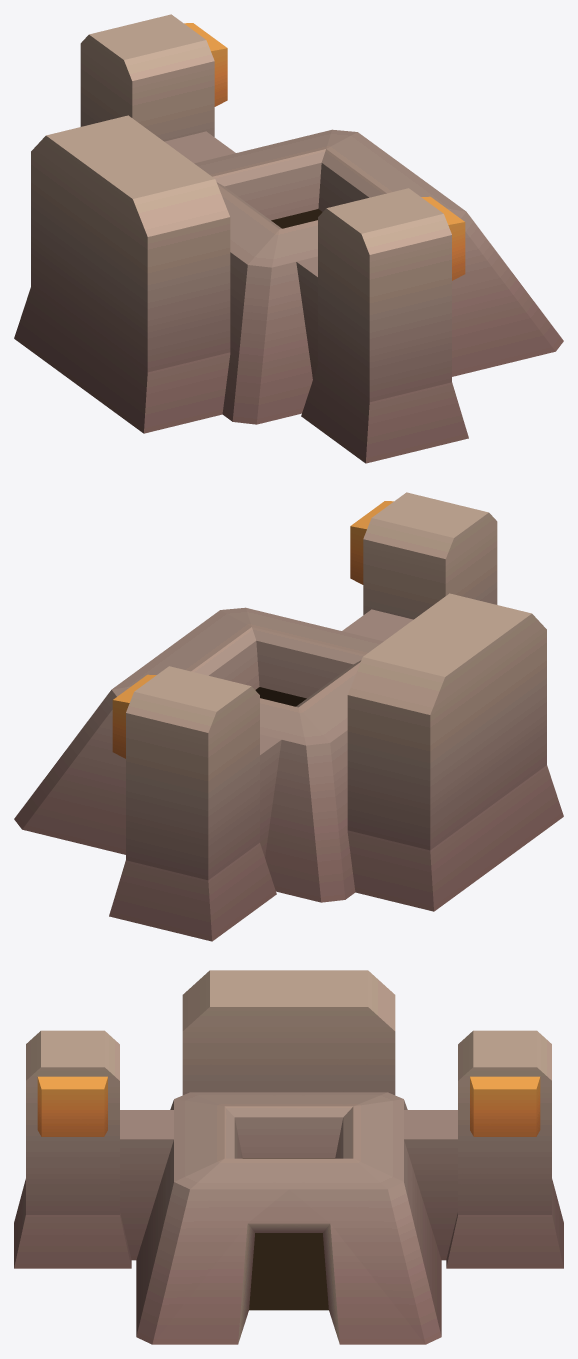
The model's file is ImperialStation_real.fbx.
The picture shows the model from 3 angles, top to bottom: view 1: azimuth 30°, elevation 25°; view 2: azimuth 150°, elevation 25°; view 3: azimuth 270°, elevation 25°; orthographic projection. The views are drawn at different scales.
Parts seen in each view (by area): view 1: ImperialStation; view 2: ImperialStation; view 3: ImperialStation.
Part boxes in pixels (bbox=[...]): ImperialStation: bbox=[14, 14, 563, 463]; ImperialStation: bbox=[14, 492, 563, 941]; ImperialStation: bbox=[14, 970, 563, 1344].
Size of the model in its own units: 0.7929 by 1.01 by 0.3998.
